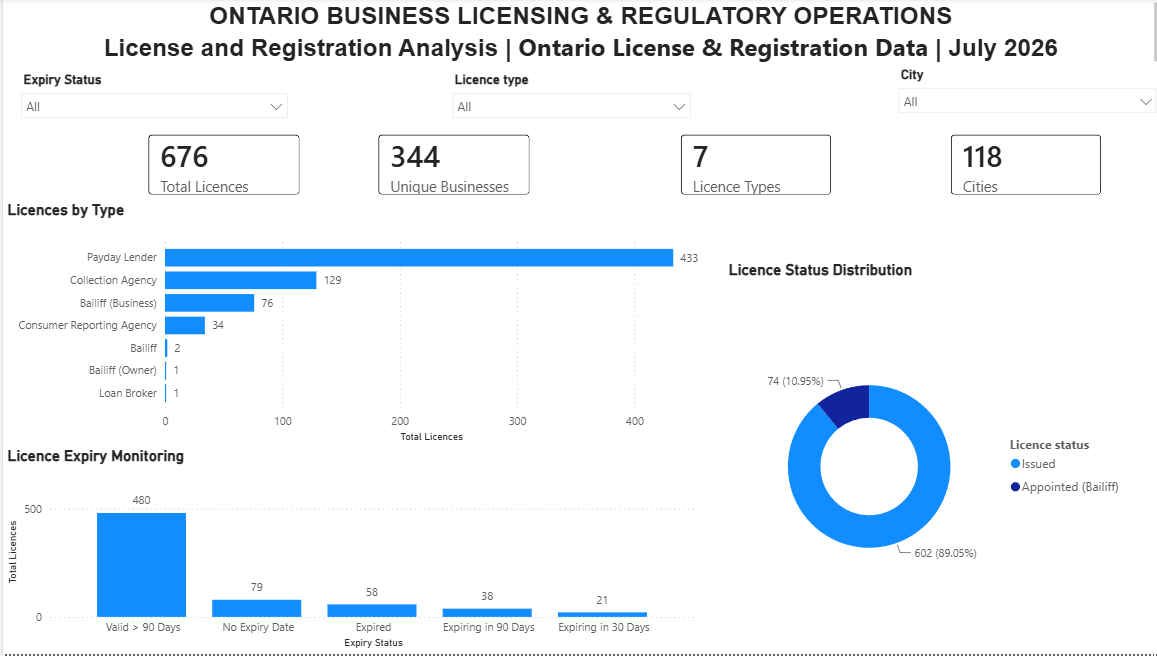

What the dashboard file says about the page in this screenshot:
{"tool":"powerbi","page":{"name":"Executive Overview","canvas":[1280,720],"ordinal":0},"visuals":[{"type":"cardVisual","fields":{"Data":["BusinessLicences.Total Licences"]},"box":[143,133.1,200,100.6],"z":0},{"type":"cardVisual","fields":{"Data":["BusinessLicences.Unique Businesses"]},"box":[395.1,133.1,200,100.6],"z":1000},{"type":"cardVisual","fields":{"Data":["BusinessLicences.Licence Types"]},"box":[728,133.1,199.7,100.6],"z":2000},{"type":"cardVisual","fields":{"Data":["BusinessLicences.Cities"]},"box":[1023.9,133.1,199.7,100.6],"z":3000},{"type":"clusteredBarChart","title":"Licences by Type","fields":{"Category":["BusinessLicences.Licence type"],"Y":["BusinessLicences.Total Licences"]},"box":[0,222.4,778.9,270.5],"z":4000},{"type":"donutChart","title":"Licence Status Distribution","fields":{"Category":["BusinessLicences.Licence status"],"Y":["BusinessLicences.Total Licences"]},"box":[791.7,287.5,447.5,422],"z":5000},{"type":"clusteredColumnChart","title":"Licence Expiry Monitoring","fields":{"Category":["BusinessLicences.Expiry Status"],"Y":["BusinessLicences.Total Licences"]},"box":[0,492.9,766.2,226.6],"z":6000},{"type":"slicer","fields":{"Values":["BusinessLicences.Licence type"]},"box":[482.9,75.1,281.8,68],"z":7000},{"type":"slicer","fields":{"Values":["BusinessLicences.City"]},"box":[973,69.4,304.5,68],"z":8000},{"type":"slicer","fields":{"Values":["BusinessLicences.Expiry Status"]},"box":[9.9,75.1,313,68],"z":9000},{"type":"textbox","box":[0,0,1277.5,75.1],"z":10000}]}

Visuals, with their boxes in screenshot pixels (x1, y1, x2, y2), scaled from the page's 1280x720 canvas onto the 1157x656 screenshot:
cardVisual - BusinessLicences.Total Licences: select_region(129, 121, 310, 213)
cardVisual - BusinessLicences.Unique Businesses: select_region(357, 121, 538, 213)
cardVisual - BusinessLicences.Licence Types: select_region(658, 121, 839, 213)
cardVisual - BusinessLicences.Cities: select_region(926, 121, 1106, 213)
"Licences by Type" clusteredBarChart: select_region(0, 203, 704, 449)
"Licence Status Distribution" donutChart: select_region(716, 262, 1120, 646)
"Licence Expiry Monitoring" clusteredColumnChart: select_region(0, 449, 693, 655)
slicer - BusinessLicences.Licence type: select_region(436, 68, 691, 130)
slicer - BusinessLicences.City: select_region(880, 63, 1155, 125)
slicer - BusinessLicences.Expiry Status: select_region(9, 68, 292, 130)
textbox: select_region(0, 0, 1155, 68)
